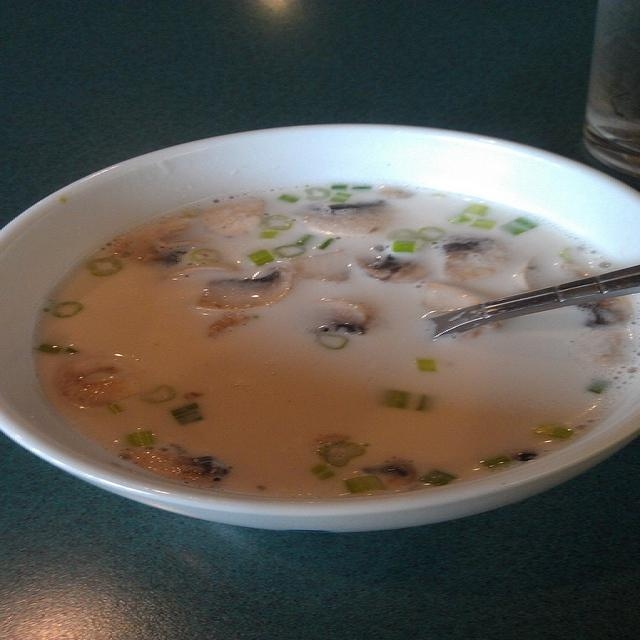汤锅炖物: (18, 106, 632, 581)
